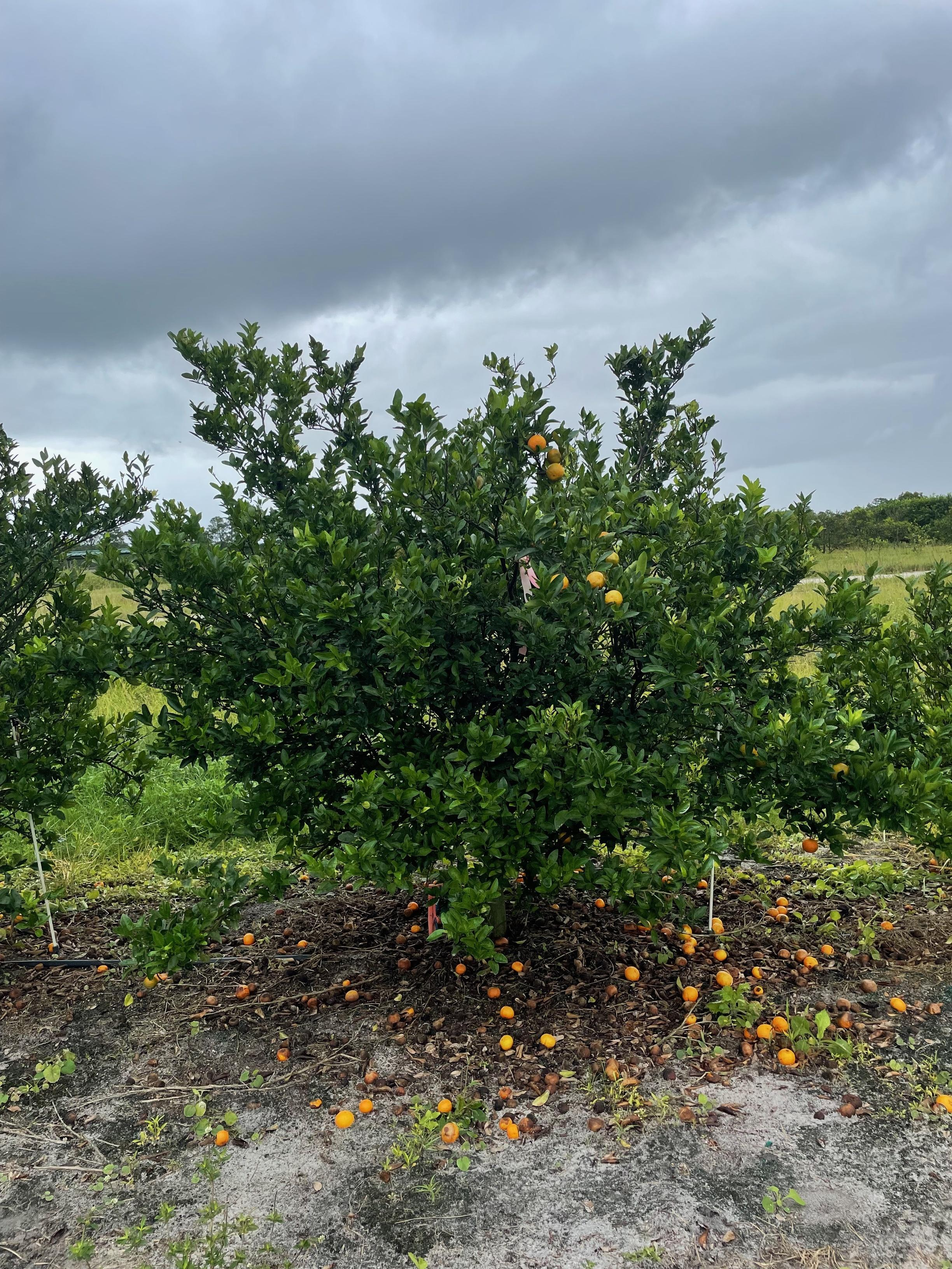fruit_on_ground: (737, 740, 769, 769), (828, 760, 851, 782), (544, 461, 567, 482), (526, 432, 548, 453), (585, 569, 607, 590), (603, 588, 625, 608), (799, 836, 821, 855), (550, 572, 570, 592), (545, 447, 564, 465), (556, 829, 574, 846), (142, 974, 160, 991), (602, 551, 621, 567), (593, 530, 613, 544)
fruit_on_tree: (931, 1091, 951, 1114), (439, 1121, 460, 1142), (334, 1109, 355, 1129), (777, 1047, 798, 1066), (681, 984, 700, 1003), (756, 1022, 774, 1040), (771, 1014, 790, 1031), (539, 1032, 558, 1049), (214, 1127, 231, 1146), (518, 1116, 535, 1134), (357, 1097, 375, 1114), (623, 964, 641, 981), (436, 1097, 454, 1114), (889, 995, 908, 1011), (858, 978, 877, 994), (715, 970, 734, 986), (838, 1102, 856, 1118), (574, 1043, 592, 1059), (836, 1012, 854, 1028), (926, 999, 943, 1015), (498, 1033, 514, 1050), (493, 934, 511, 949), (505, 1125, 522, 1140), (509, 958, 526, 973), (711, 917, 726, 933), (497, 1115, 513, 1130), (544, 1070, 560, 1085), (364, 1069, 380, 1084), (834, 996, 851, 1010), (660, 922, 675, 937), (604, 983, 619, 998), (497, 1085, 512, 1100), (499, 1004, 514, 1019), (775, 912, 791, 926), (803, 954, 819, 968), (819, 942, 835, 956), (234, 984, 250, 998), (712, 947, 728, 961), (486, 984, 502, 998), (275, 1048, 291, 1062), (849, 1000, 864, 1014), (741, 1041, 755, 1056), (742, 1025, 756, 1040), (663, 1068, 678, 1082), (682, 940, 697, 954), (345, 989, 360, 1003), (751, 965, 765, 979), (242, 931, 256, 945), (397, 956, 411, 970), (621, 920, 636, 933), (857, 952, 872, 965), (679, 923, 694, 936), (765, 906, 780, 919), (683, 1011, 698, 1024), (879, 919, 895, 931), (814, 998, 828, 1011), (454, 962, 468, 975), (794, 947, 807, 961), (406, 900, 420, 913), (775, 904, 789, 917), (593, 896, 606, 909), (638, 920, 652, 932), (12, 912, 26, 924), (797, 963, 811, 975), (777, 947, 791, 959), (775, 895, 789, 907), (387, 1012, 401, 1024), (308, 1096, 322, 1108), (278, 1039, 291, 1051), (646, 1002, 659, 1014), (752, 985, 765, 997), (205, 993, 218, 1005), (750, 949, 764, 960), (674, 956, 688, 967), (95, 963, 109, 974), (697, 878, 709, 890), (306, 996, 318, 1008), (780, 873, 793, 884), (134, 988, 147, 999), (340, 978, 353, 989), (283, 926, 295, 937), (409, 922, 421, 933), (396, 933, 407, 944), (273, 906, 285, 916), (296, 939, 308, 949), (46, 941, 56, 952)
